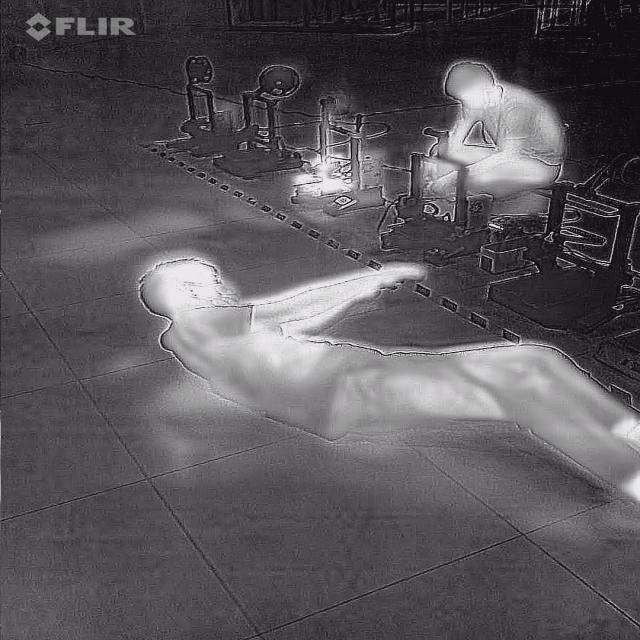Victim: (132, 246, 638, 512), (417, 54, 578, 216)
